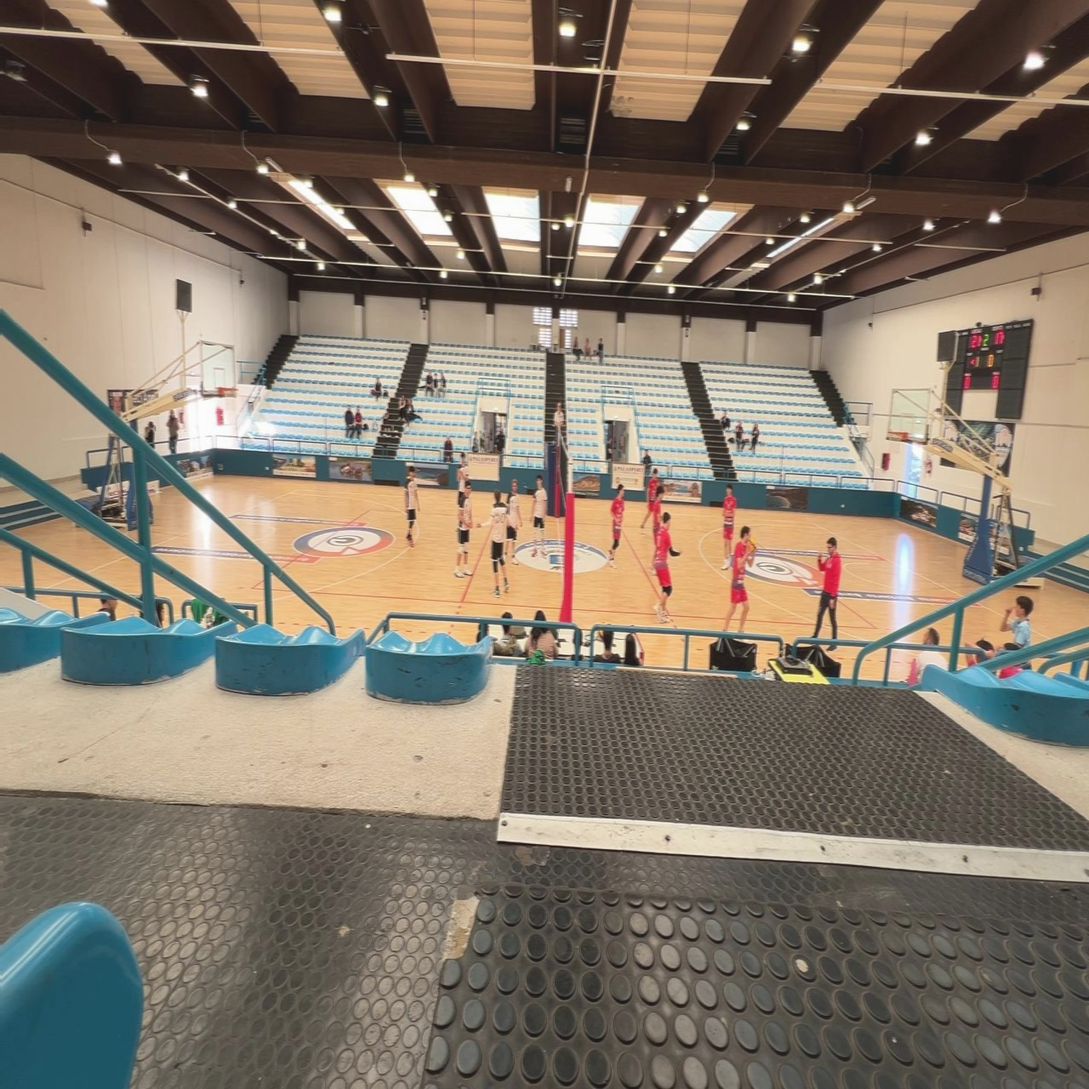ball: (747, 539, 756, 553)
